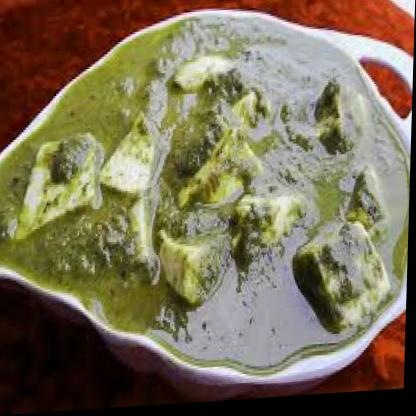palak_paneer: (0, 7, 415, 394)
